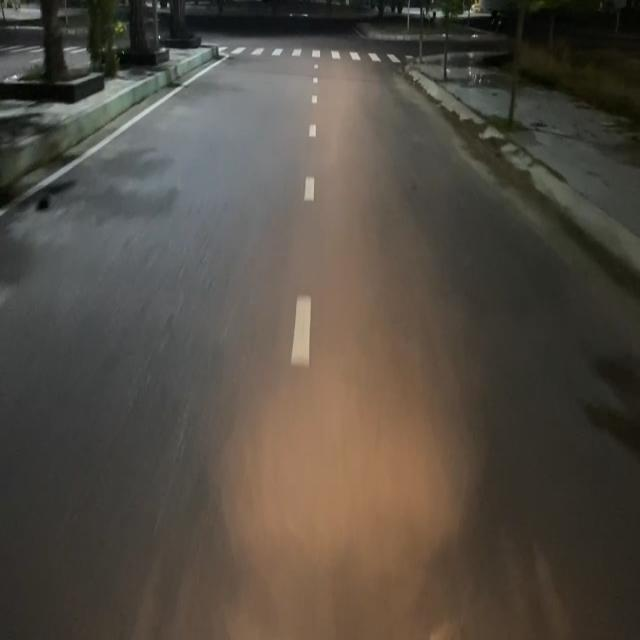walk-crossing: (219, 44, 410, 66)
